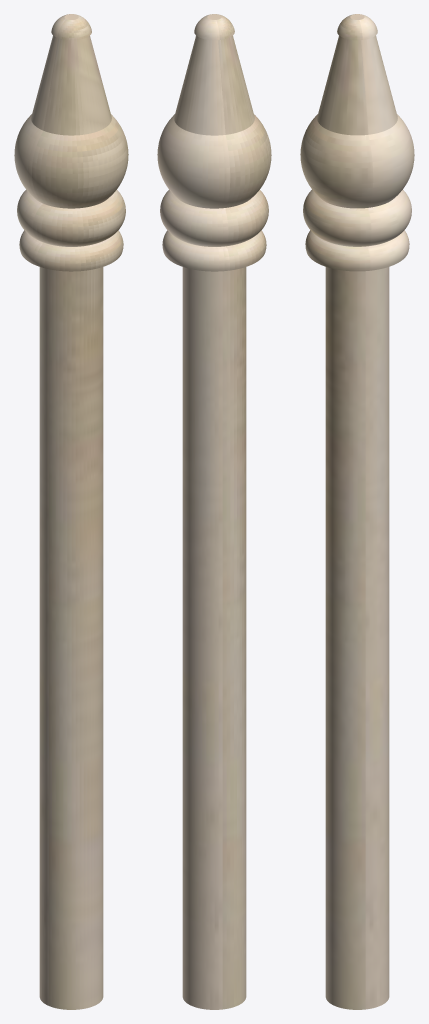
File: original-34.obj
The picture shows the model from 3 angles, left to right: view 1: azimuth 90°, elevation 25°; view 2: azimuth 150°, elevation 25°; view 3: azimuth 330°, elevation 25°; orthographic projection.
Visible parts, largest first — view 1: mesh91/mesh91-geometry#mesh91-geometry; view 2: mesh91/mesh91-geometry#mesh91-geometry; view 3: mesh91/mesh91-geometry#mesh91-geometry.
Part boxes in pixels (bbox=[...]): mesh91/mesh91-geometry#mesh91-geometry: bbox=[14, 14, 128, 1009]; mesh91/mesh91-geometry#mesh91-geometry: bbox=[157, 14, 271, 1009]; mesh91/mesh91-geometry#mesh91-geometry: bbox=[300, 14, 414, 1009].
Bounding box in the file's own units: 0.00686 × 0.065 × 0.00686.
